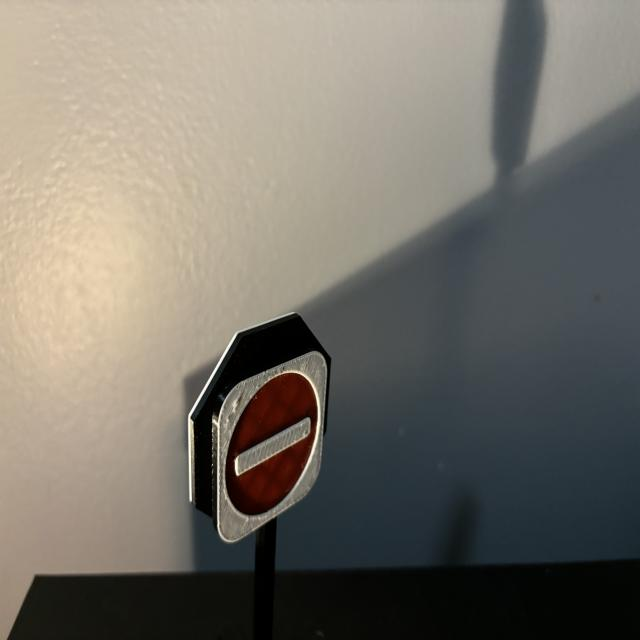sign_noentry: (220, 352, 328, 544)
